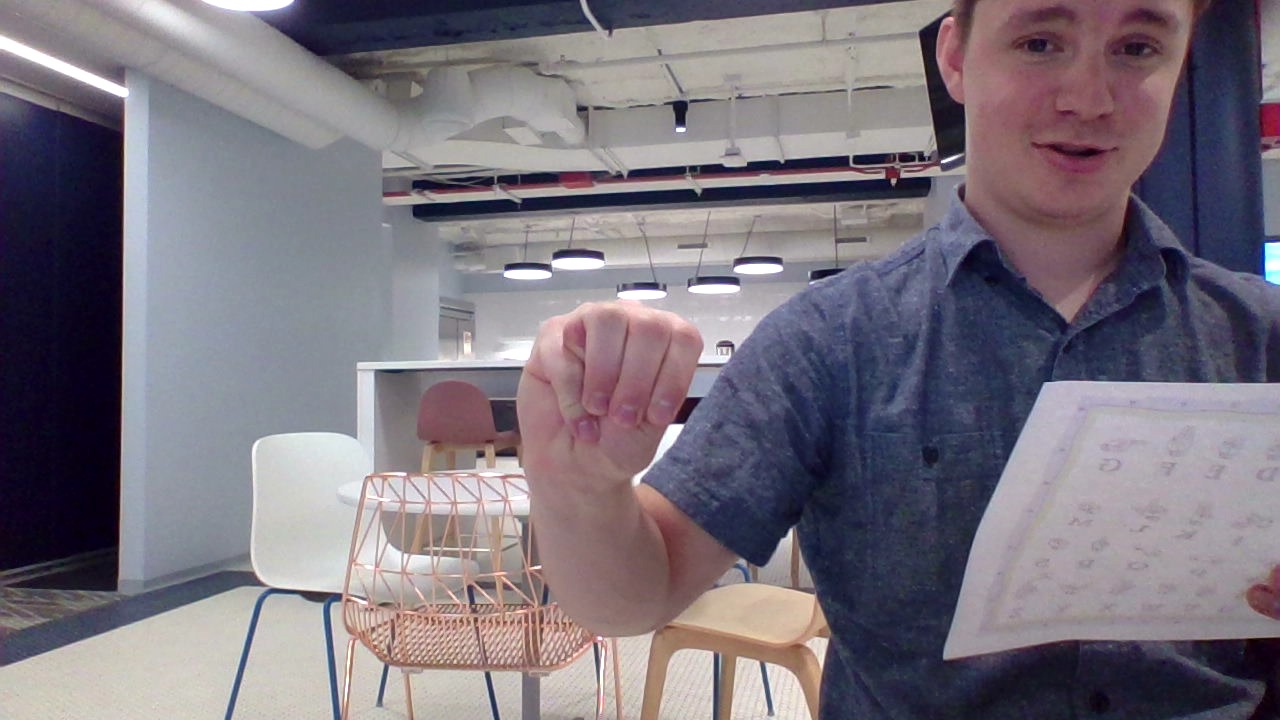m: (481, 282, 720, 524)
